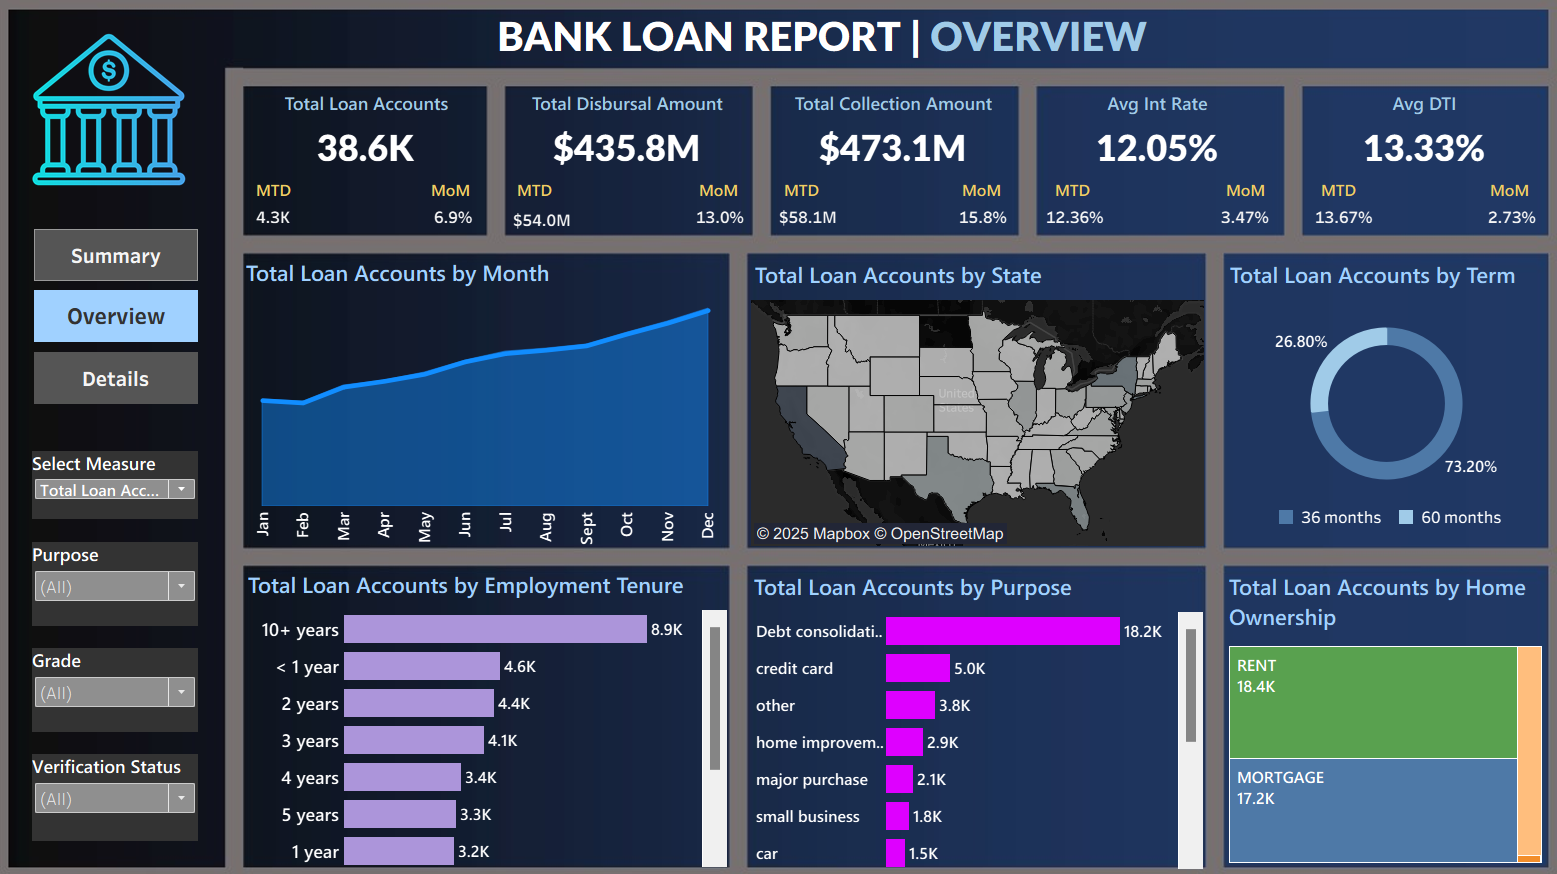

Layout of this report page (visuals, bound fields, positions):
{"tool":"tableau","page":{"name":"Overview","canvas":[1600,900],"ordinal":1},"visuals":[{"type":"image","param":"C:/Users/nakul/Downloads/Tableau Background 2.jpg","box":[8,8,1584,884]},{"type":"text","box":[513.6,12.1,718,72.4]},{"type":"image","param":"C:/Users/nakul/Downloads/bank_3983846.png","box":[48,39,177,163]},{"type":"worksheet","title":"Total Loan Accounts","mark":"Automatic","box":[280,99,215,82]},{"type":"worksheet","title":"Total Disbursal Amount","mark":"Automatic","box":[541,99,215,82]},{"type":"worksheet","title":"Total Collection Amount","mark":"Automatic","box":[807,99,215,82]},{"type":"worksheet","title":"Avg Int Rate","mark":"Automatic","box":[1071,99,215,82]},{"type":"worksheet","title":"Avg DTI","mark":"Automatic","box":[1338,99,215,82]},{"type":"text","box":[273,188,51,28]},{"type":"text","box":[448,188,51,28]},{"type":"text","box":[534,188,51,28]},{"type":"text","box":[716,188,51,28]},{"type":"text","box":[801,188,51,28]},{"type":"text","box":[979,188,51,28]},{"type":"text","box":[1072,188,51,28]},{"type":"text","box":[1243,188,51,28]},{"type":"text","box":[1338,188,51,28]},{"type":"text","box":[1507,188,51,28]},{"type":"worksheet","title":"MTD Loan Accounts","mark":"Automatic","box":[268,218,52,22]},{"type":"worksheet","title":"MoM Loan Accounts","mark":"Automatic","box":[444,218,61,22]},{"type":"worksheet","title":"MTD Disbursal Amount","mark":"Automatic","box":[528,218,71,29]},{"type":"worksheet","title":"MoM Disbursal Amount","mark":"Automatic","box":[709,218,64,22]},{"type":"worksheet","title":"MTD Collection Amount","mark":"Automatic","box":[795,218,69,22]},{"type":"worksheet","title":"MoM Collection Amount","mark":"Automatic","box":[972,218,64,22]},{"type":"worksheet","title":"MTD Int Rate","mark":"Automatic","box":[1061,218,71,22]},{"type":"worksheet","title":"MoM Int Rate","mark":"Automatic","box":[1235,218,62,22]},{"type":"worksheet","title":"MTD Avg DTI","mark":"Automatic","box":[1324,218,83,22]},{"type":"worksheet","title":"MoM Avg DTI","mark":"Automatic","box":[1502,218,63,22]},{"type":"dashboard-object","box":[55,241,164,52]},{"type":"worksheet","title":"by Month","mark":"Automatic","rows":["Calculation_822469926455066660","Calculation_822469926455066660"],"cols":["issue_date"],"box":[263,265,486,293]},{"type":"worksheet","title":"State","mark":"Multipolygon","box":[772,267,453,291]},{"type":"worksheet","title":"by Term","mark":"Pie","rows":["Calculation_822469926461693990","Calculation_822469926461693990"],"box":[1247,267,321,252]},{"type":"dashboard-object","box":[55,302,164,52]},{"type":"dashboard-object","box":[55,364,164,52]},{"type":"parameter","param":"[Parameters].[Parameter 1]","box":[53,463,166,68]},{"type":"legend","title":"by Term","param":"[federated.0mglm8k0dzz13p0zpqyxy08coz4v].[none:term:nk]","box":[1296,518,247,29]},{"type":"filter","title":"Avg DTI","param":"[federated.0mglm8k0dzz13p0zpqyxy08coz4v].[none:purpose:nk]","box":[53,554,166,84]},{"type":"worksheet","title":"by Employment Tenure","mark":"Automatic","rows":["emp_length"],"cols":["Calculation_822469926455066660"],"box":[265,577,483,302]},{"type":"worksheet","title":"by Purpose","mark":"Automatic","rows":["purpose"],"cols":["Calculation_822469926455066660"],"box":[771,579,453,302]},{"type":"worksheet","title":"by Home Ownership","mark":"Automatic","box":[1246,579,320,299]},{"type":"filter","title":"Avg DTI","param":"[federated.0mglm8k0dzz13p0zpqyxy08coz4v].[none:grade:nk]","box":[53,660,166,84]},{"type":"filter","title":"Avg DTI","param":"[federated.0mglm8k0dzz13p0zpqyxy08coz4v].[none:verification_status:nk]","box":[53,766,166,87]}]}

Visuals, with their boxes in screenshot pixels (x1, y1, x2, y2), scaled from the page's 1600x900 canvas onto the 1557x874 screenshot:
image: (left=8, top=8, right=1549, bottom=866)
text: (left=500, top=12, right=1199, bottom=82)
image: (left=47, top=38, right=219, bottom=196)
"Total Loan Accounts" worksheet: (left=272, top=96, right=482, bottom=176)
"Total Disbursal Amount" worksheet: (left=526, top=96, right=736, bottom=176)
"Total Collection Amount" worksheet: (left=785, top=96, right=995, bottom=176)
"Avg Int Rate" worksheet: (left=1042, top=96, right=1251, bottom=176)
"Avg DTI" worksheet: (left=1302, top=96, right=1511, bottom=176)
text: (left=266, top=183, right=315, bottom=210)
text: (left=436, top=183, right=486, bottom=210)
text: (left=520, top=183, right=569, bottom=210)
text: (left=697, top=183, right=746, bottom=210)
text: (left=779, top=183, right=829, bottom=210)
text: (left=953, top=183, right=1002, bottom=210)
text: (left=1043, top=183, right=1093, bottom=210)
text: (left=1210, top=183, right=1259, bottom=210)
text: (left=1302, top=183, right=1352, bottom=210)
text: (left=1466, top=183, right=1516, bottom=210)
"MTD Loan Accounts" worksheet: (left=261, top=212, right=311, bottom=233)
"MoM Loan Accounts" worksheet: (left=432, top=212, right=491, bottom=233)
"MTD Disbursal Amount" worksheet: (left=514, top=212, right=583, bottom=240)
"MoM Disbursal Amount" worksheet: (left=690, top=212, right=752, bottom=233)
"MTD Collection Amount" worksheet: (left=774, top=212, right=841, bottom=233)
"MoM Collection Amount" worksheet: (left=946, top=212, right=1008, bottom=233)
"MTD Int Rate" worksheet: (left=1032, top=212, right=1102, bottom=233)
"MoM Int Rate" worksheet: (left=1202, top=212, right=1262, bottom=233)
"MTD Avg DTI" worksheet: (left=1288, top=212, right=1369, bottom=233)
"MoM Avg DTI" worksheet: (left=1462, top=212, right=1523, bottom=233)
dashboard-object: (left=54, top=234, right=213, bottom=285)
"by Month" worksheet: (left=256, top=257, right=729, bottom=542)
"State" worksheet (Multipolygon marks): (left=751, top=259, right=1192, bottom=542)
"by Term" worksheet (Pie marks): (left=1213, top=259, right=1526, bottom=504)
dashboard-object: (left=54, top=293, right=213, bottom=344)
dashboard-object: (left=54, top=353, right=213, bottom=404)
parameter: (left=52, top=450, right=213, bottom=516)
"by Term" legend: (left=1261, top=503, right=1502, bottom=531)
"Avg DTI" filter: (left=52, top=538, right=213, bottom=620)
"by Employment Tenure" worksheet: (left=258, top=560, right=728, bottom=854)
"by Purpose" worksheet: (left=750, top=562, right=1191, bottom=856)
"by Home Ownership" worksheet: (left=1213, top=562, right=1524, bottom=853)
"Avg DTI" filter: (left=52, top=641, right=213, bottom=723)
"Avg DTI" filter: (left=52, top=744, right=213, bottom=828)
